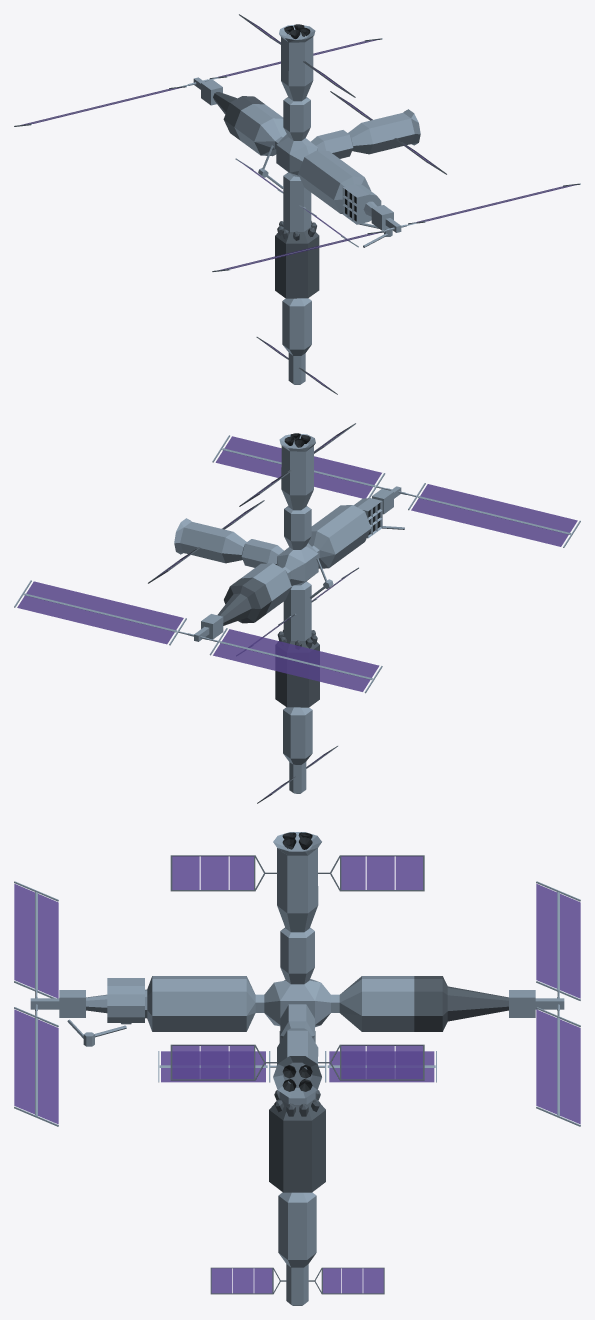
Rendered from Sat-CSS.glb.
3 renders of one model, top to bottom at view 1: azimuth 30°, elevation 25°; view 2: azimuth 150°, elevation 25°; view 3: azimuth 270°, elevation 25°, orthographic. The views are drawn at different scales.
Visible parts, largest first — view 1: Sat-CSS-Tiagong; view 2: Sat-CSS-Tiagong; view 3: Sat-CSS-Tiagong.
Part boxes in pixels (bbox=[...]): Sat-CSS-Tiagong: bbox=[14, 14, 580, 394]; Sat-CSS-Tiagong: bbox=[14, 423, 580, 803]; Sat-CSS-Tiagong: bbox=[14, 832, 580, 1305].
Bounding box in the file's own units: 92.69 × 89.31 × 98.32.
